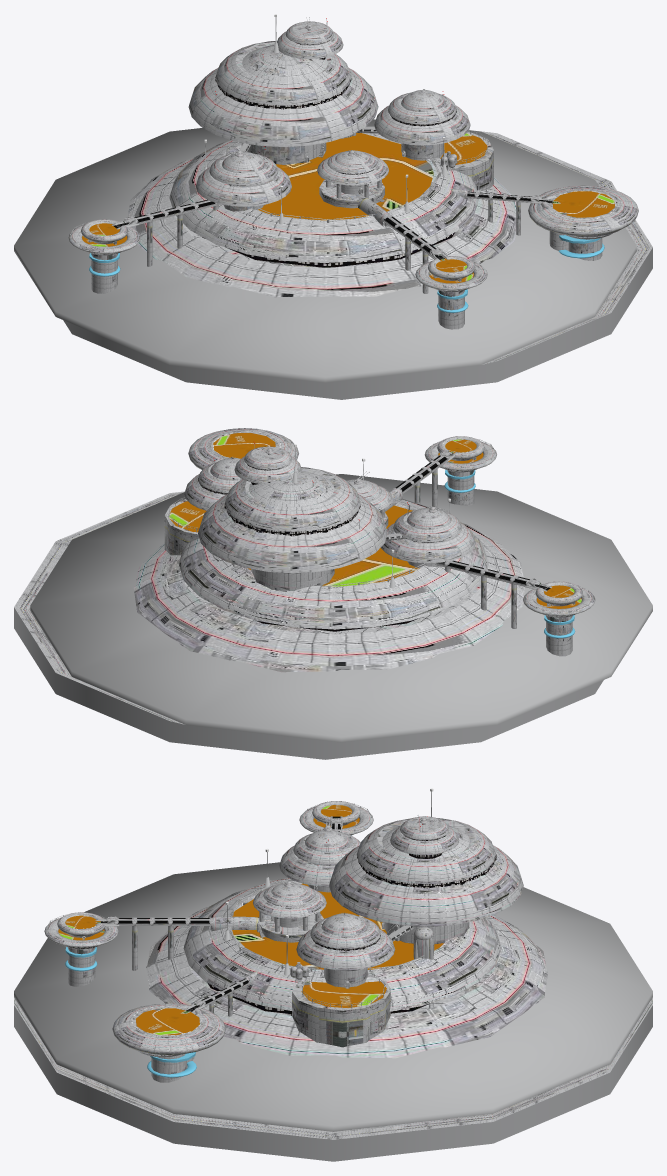
Rendered from cobalt city.obj.
3 views of the same model, one above another, from view 1: azimuth 30°, elevation 25°; view 2: azimuth 150°, elevation 25°; view 3: azimuth 270°, elevation 25° (orthographic). The views are drawn at different scales.
Visible parts, largest first — view 1: cobalt city loaded brown; view 2: cobalt city loaded brown; view 3: cobalt city loaded brown.
Part boxes in pixels (bbox=[...]): cobalt city loaded brown: bbox=[14, 14, 652, 399]; cobalt city loaded brown: bbox=[14, 428, 652, 759]; cobalt city loaded brown: bbox=[14, 788, 652, 1161].
Size of the model in its own units: 557 by 219 by 541.
